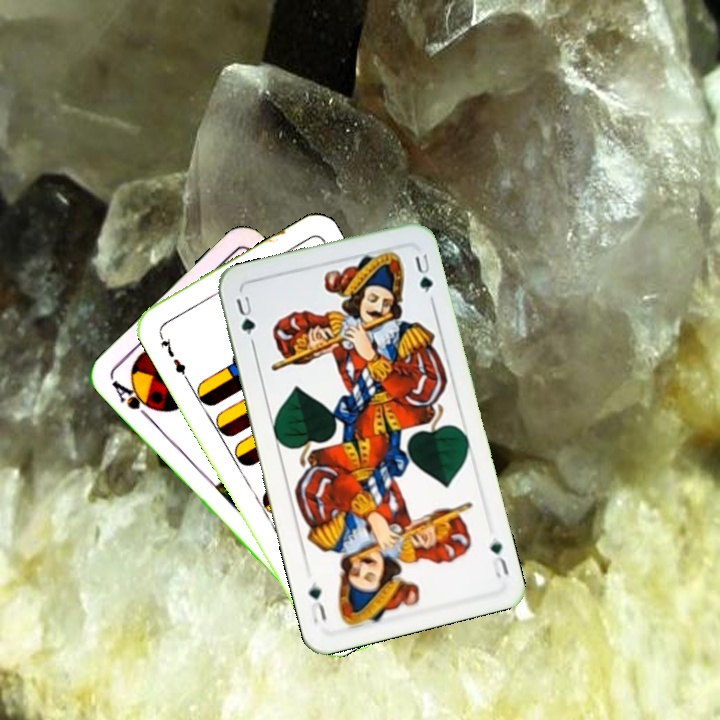E7: (154, 328, 191, 382)
GU: (231, 289, 258, 338), (486, 533, 511, 582)
SA: (107, 373, 159, 421)
